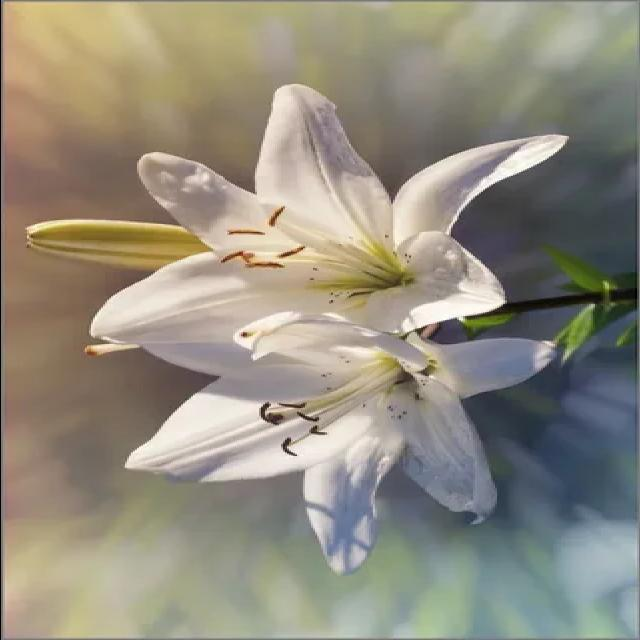lily: (76, 68, 558, 358)
